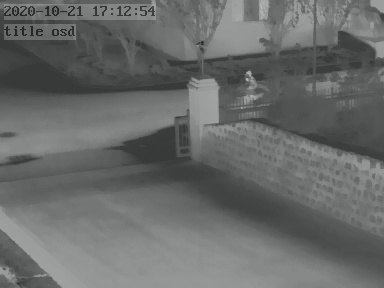person: (241, 68, 263, 98)
